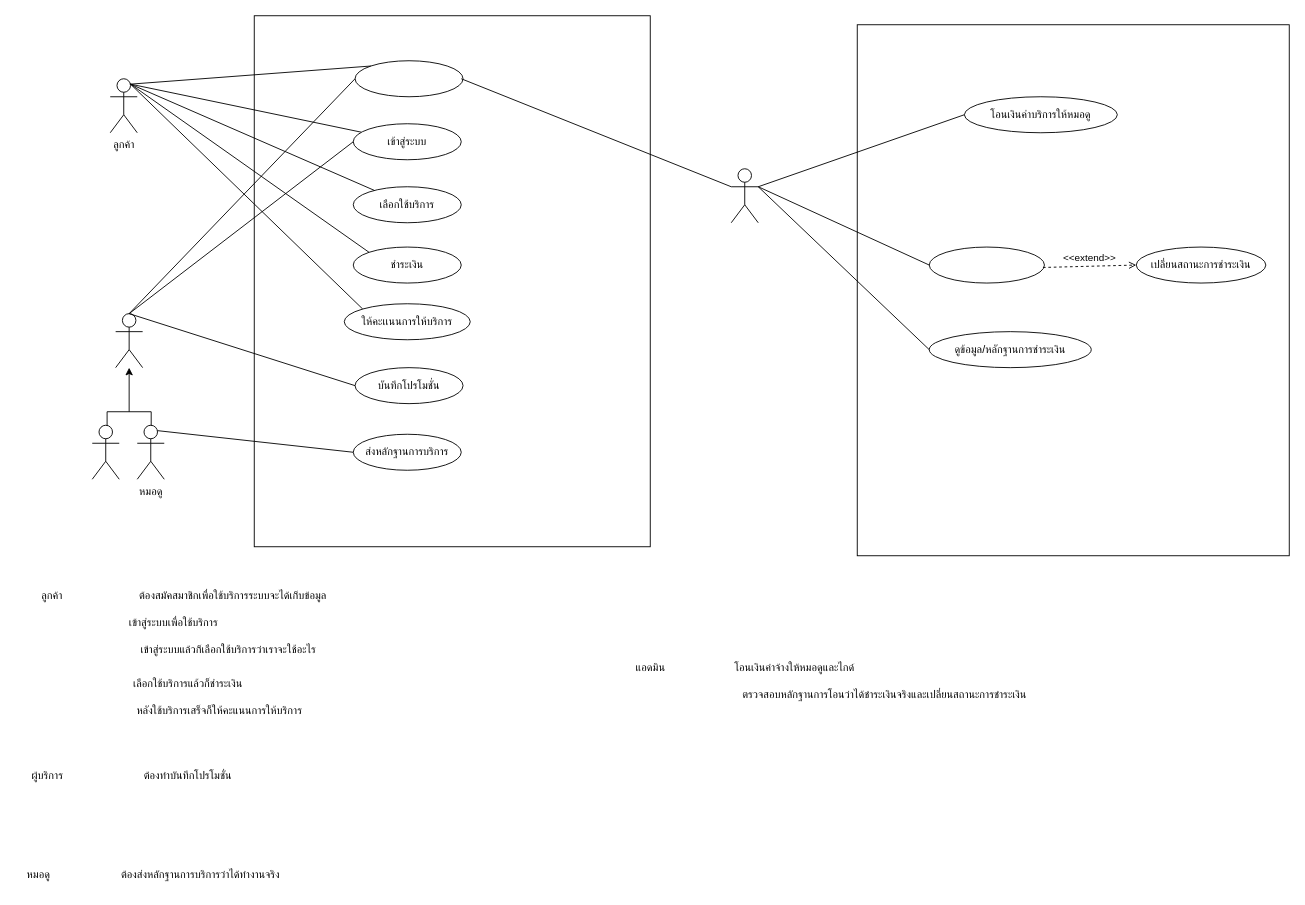
Some shapes in this 1305 by 905 pixel diagram are drawn without their labels. The shapes that lost their labels are listed below. From the top down, each one's centre as x and y in pixels, then its label:
At point (408, 78): "สมัครสมาชิก".
At point (744, 195): "เเอดมิน".
At point (986, 264): "ตรวจสอบการชำระเงิน".
At point (129, 340): "ผู้ให้บริการ".
At point (105, 451): "ไกด์".
